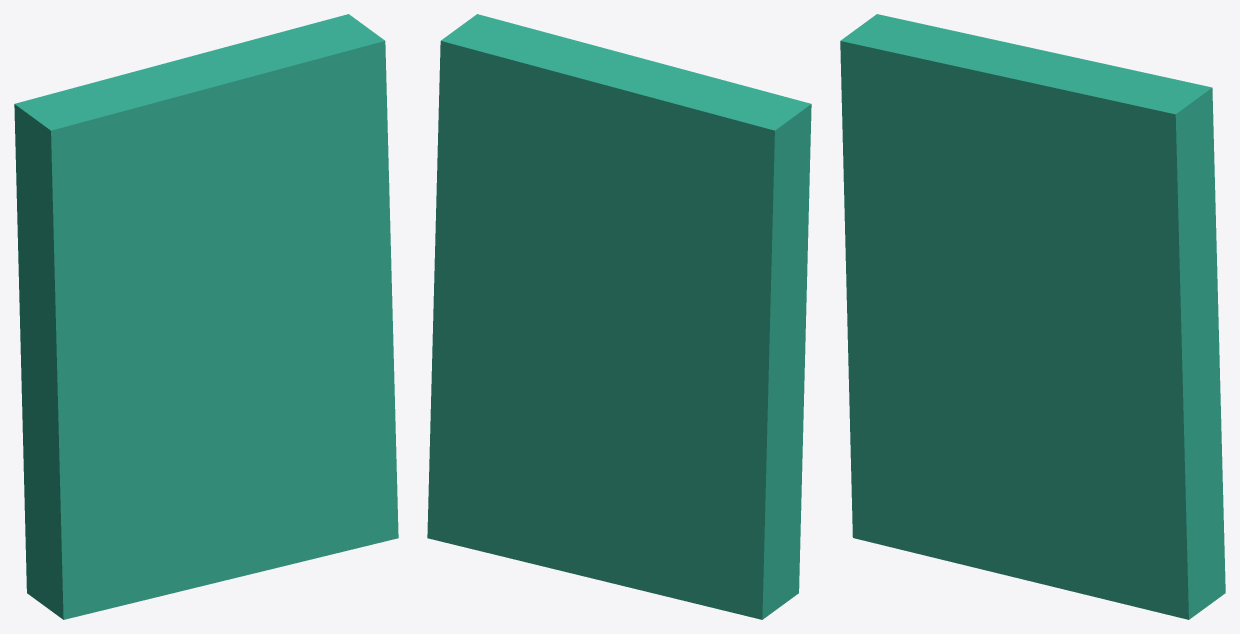
3 renders of one model, left to right at view 1: azimuth 30°, elevation 25°; view 2: azimuth 150°, elevation 25°; view 3: azimuth 330°, elevation 25°, orthographic.
Parts seen in each view (by area): view 1: geometry_0; view 2: geometry_0; view 3: geometry_0.
Part boxes in pixels (x1,y1,x2,y2): geometry_0: (14,14,398,619); geometry_0: (427,14,811,619); geometry_0: (840,14,1225,619).
Bounding box in the file's own units: 16.44 × 22.62 × 3.
